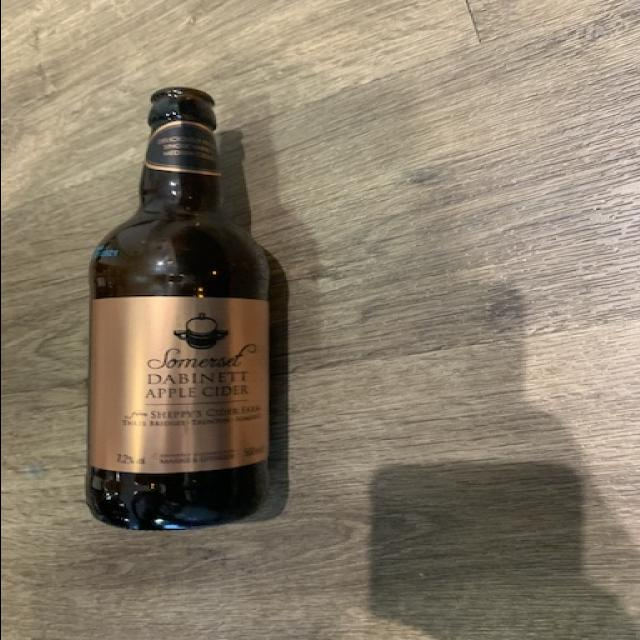litter: (83, 85, 285, 539)
